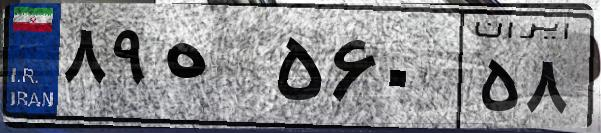0: (385, 28, 445, 110)
5: (270, 28, 330, 110), (475, 38, 525, 113)
6: (330, 28, 385, 110)
8: (57, 26, 110, 100), (525, 38, 570, 115)
9: (110, 28, 158, 98)
ه: (158, 20, 270, 120)
